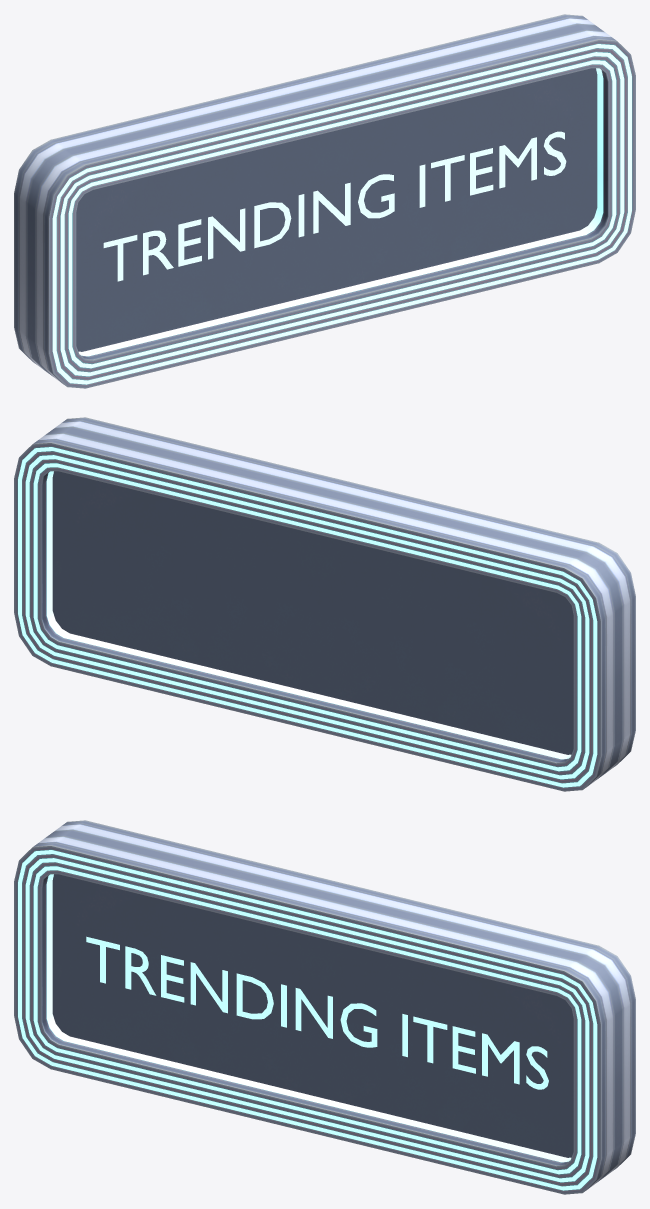
Rendered from obj_sign09.gltf.
3 views of the same model, one above another, from view 1: azimuth 30°, elevation 25°; view 2: azimuth 150°, elevation 25°; view 3: azimuth 330°, elevation 25° (orthographic).
Visible parts, largest first — view 1: obj_sign09; view 2: obj_sign09; view 3: obj_sign09.
Boxes of the visible parts, x1=… form: obj_sign09: x1=14, y1=14, x2=635, y2=388; obj_sign09: x1=14, y1=417, x2=635, y2=791; obj_sign09: x1=14, y1=820, x2=635, y2=1194.
Size of what is drawn, in the model's own units: 4.27 by 1.55 by 0.439.
Materials: 2 (1 with a texture image).
